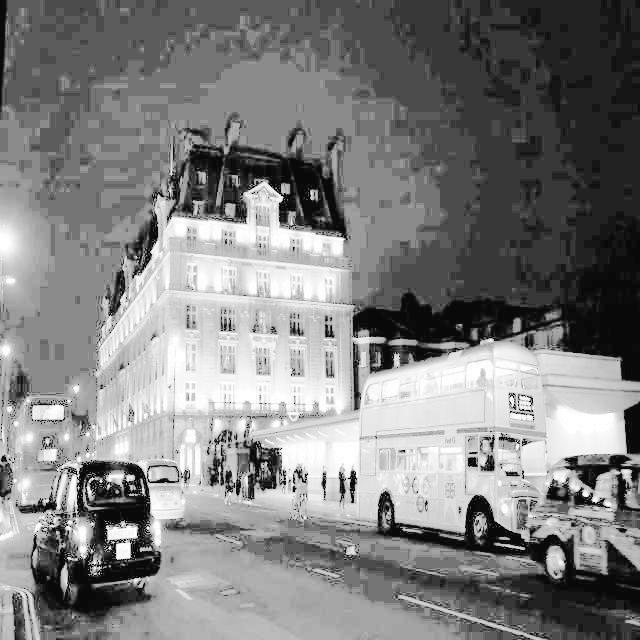Bus: (353, 341, 558, 583), (6, 378, 92, 519)
Car: (43, 474, 165, 621), (138, 432, 196, 535)
